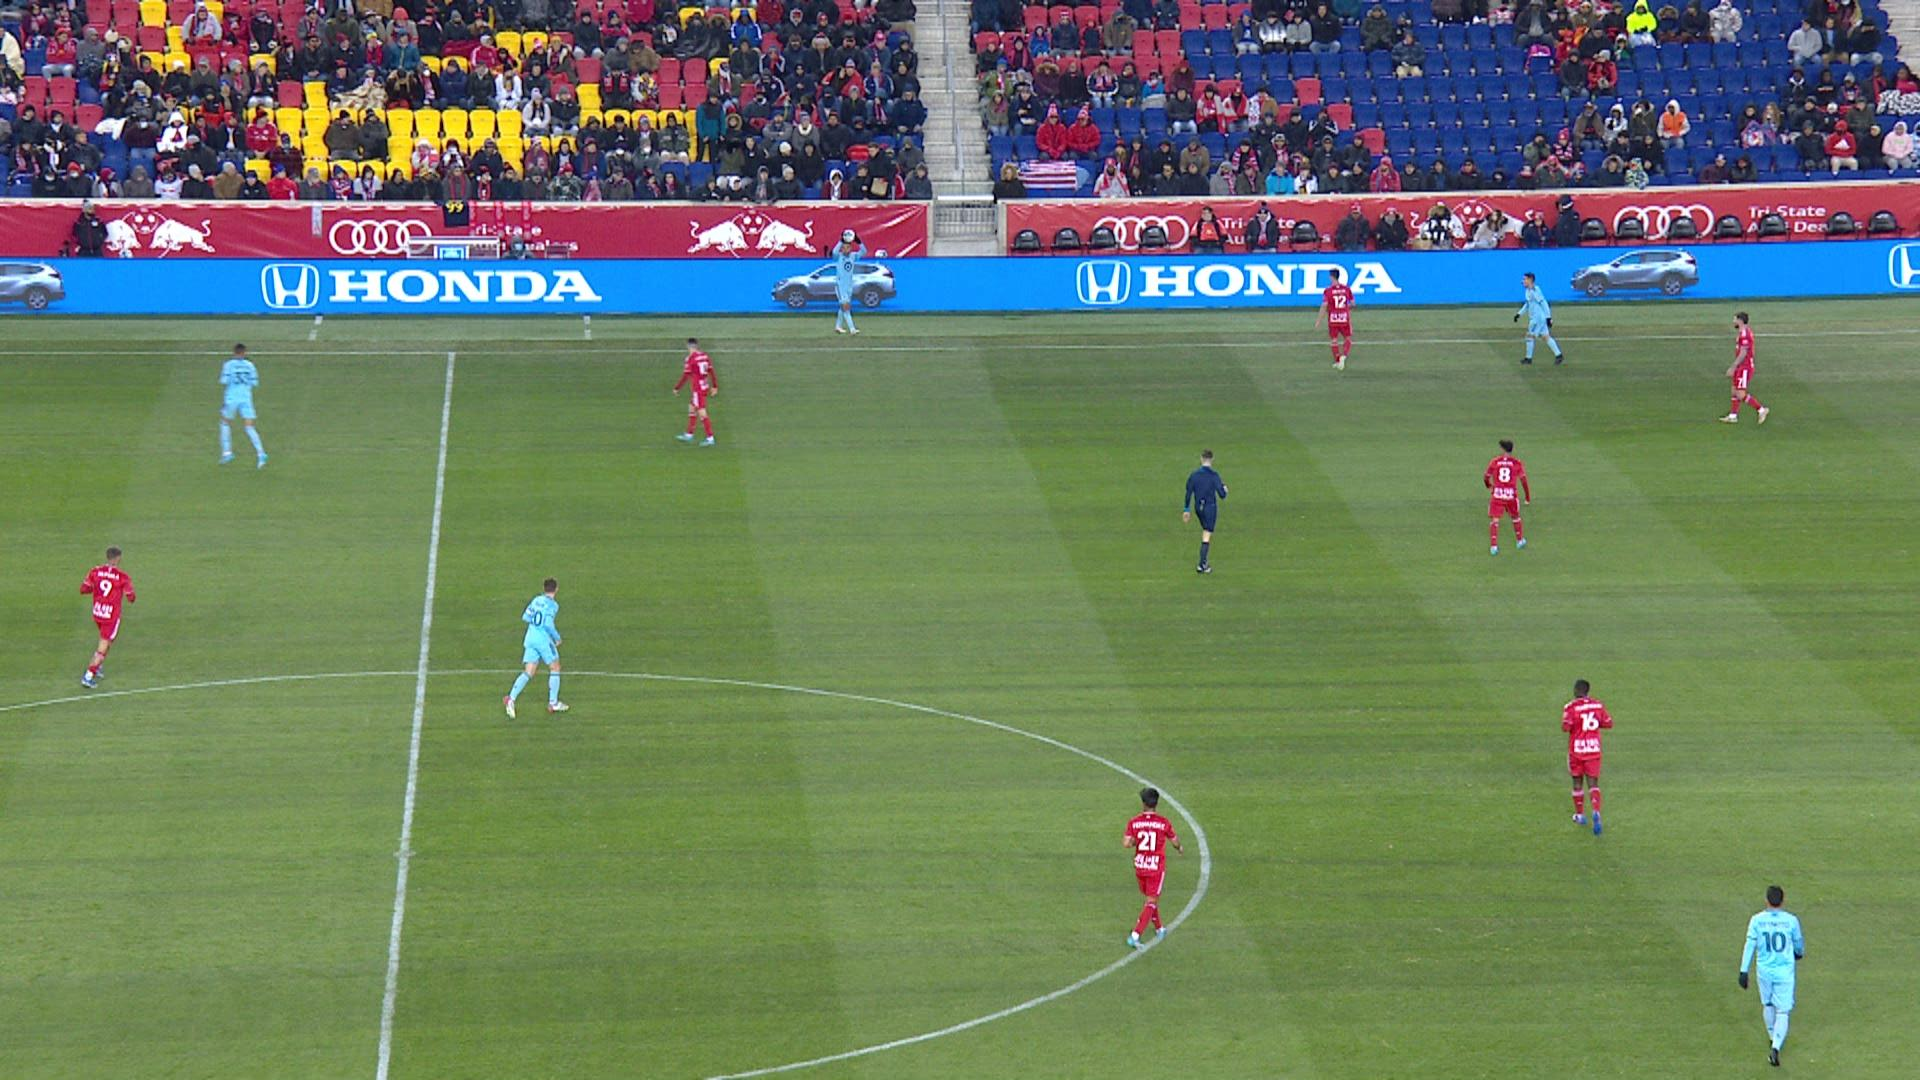football: (843, 228, 855, 243)
